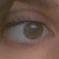eye: (25, 23, 42, 39)
